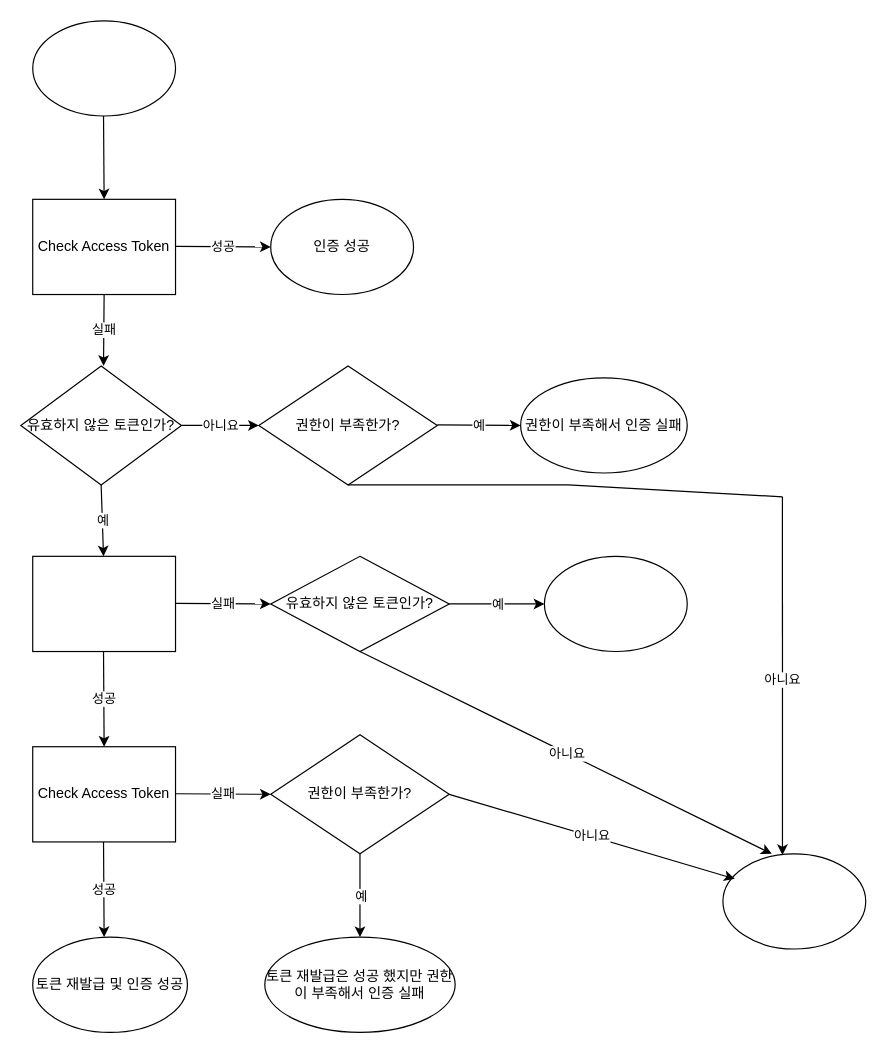
Image size: 887x1053. Some labels were removed from this diagram. The shapes that lost their labels are listed below. From the top down, each one's centre as x and y in pixels, then its label:
At (x=104, y=68): "인증이 필요한 API 요청".
At (x=104, y=603): "Refresh Token Pair".
At (x=615, y=603): "재발급 실패".
At (x=794, y=901): "알 수 없는 에러".
